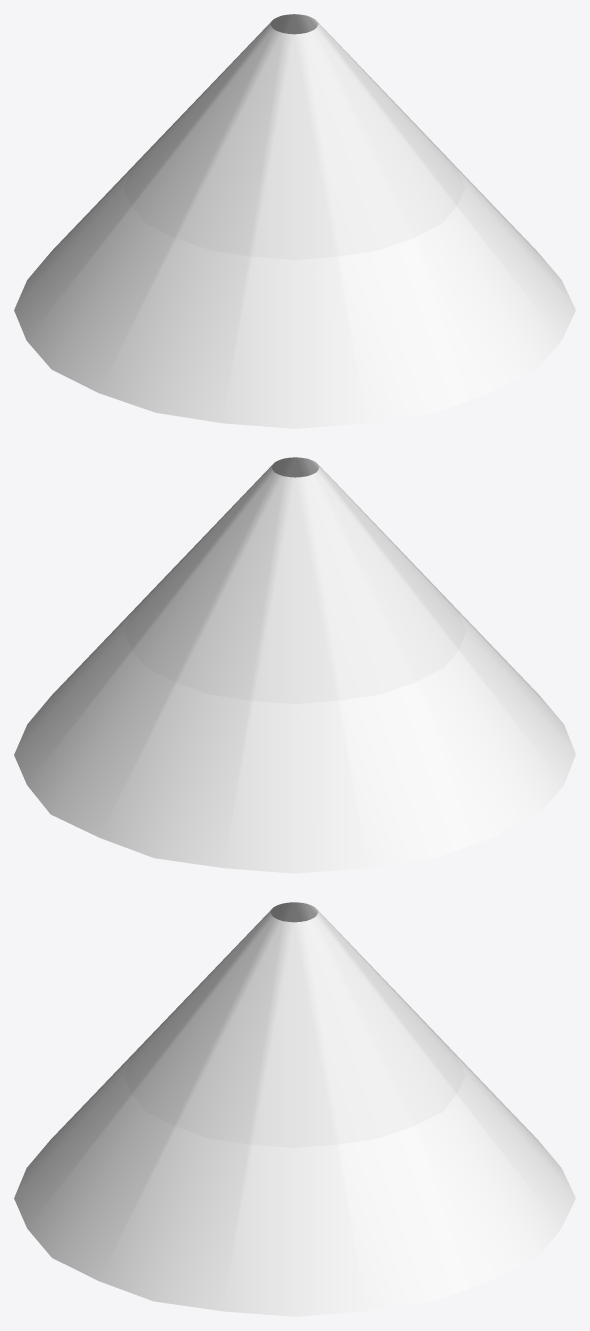
Rendered from LightFog.FBX.
3 views of the same model, one above another, from view 1: azimuth 30°, elevation 25°; view 2: azimuth 150°, elevation 25°; view 3: azimuth 270°, elevation 25° (orthographic).
Parts seen in each view (by area): view 1: VolumeLight; view 2: VolumeLight; view 3: VolumeLight.
Boxes of the visible parts, box(x1,y1,x2,y2) form: VolumeLight: box(14, 14, 575, 428); VolumeLight: box(14, 457, 575, 873); VolumeLight: box(14, 902, 575, 1316).
Bounding box in the file's own units: 192 × 108 × 192.
1 material, 1 textured.
